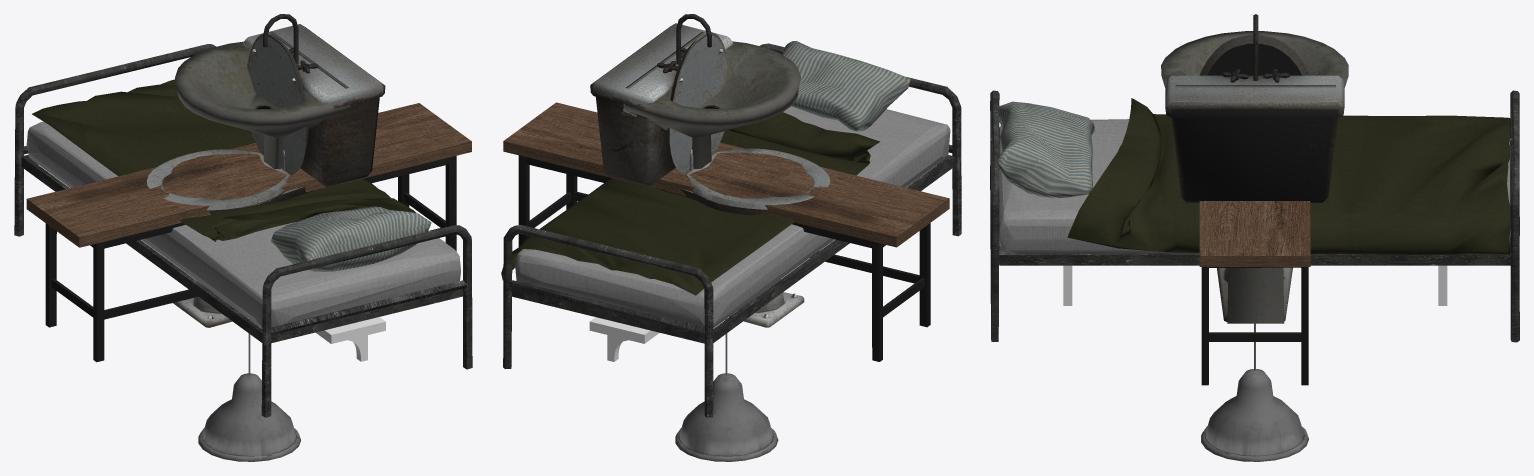
The model's file is jianyu_1.fbx.
The picture shows the model from 3 angles, left to right: view 1: azimuth 30°, elevation 25°; view 2: azimuth 150°, elevation 25°; view 3: azimuth 270°, elevation 25°; orthographic projection. The views are drawn at different scales.
Visible parts, largest first — view 1: Pillow, Bench, matong1, xishouchi1, deng1, Shelf; view 2: Pillow, Bench, matong1, xishouchi1, deng1, Shelf; view 3: Pillow, matong1, Bench, xishouchi1, deng1, Shelf.
Boxes of the visible parts, box(x1,y1,x2,y2) form: Pillow: box(14, 44, 472, 417); Bench: box(26, 103, 471, 362); matong1: box(146, 24, 385, 327); xishouchi1: box(175, 14, 350, 169); deng1: box(198, 319, 300, 461); Shelf: box(315, 317, 385, 361); Pillow: box(501, 41, 961, 417); Bench: box(503, 102, 949, 361); matong1: box(590, 23, 830, 327); xishouchi1: box(623, 14, 800, 168); deng1: box(675, 318, 778, 461); Shelf: box(589, 317, 659, 361); Pillow: box(990, 90, 1519, 342); matong1: box(1165, 35, 1344, 321); Bench: box(1199, 201, 1310, 385); xishouchi1: box(1161, 14, 1348, 323); deng1: box(1201, 323, 1308, 461); Shelf: box(1063, 265, 1447, 305).
Bounding box in the file's own units: 1.48 × 1.51 × 1.64.
